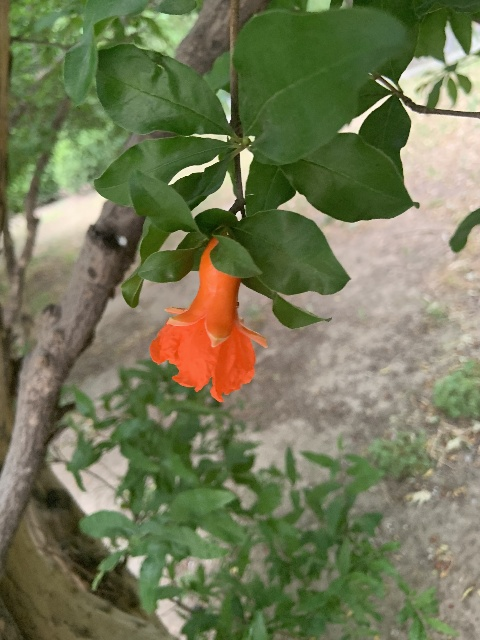flower: (150, 237, 266, 402)
